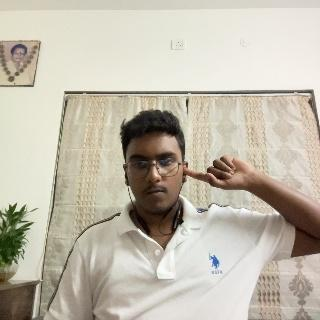Deaf: (185, 154, 271, 195)
Face: (122, 110, 187, 216)
